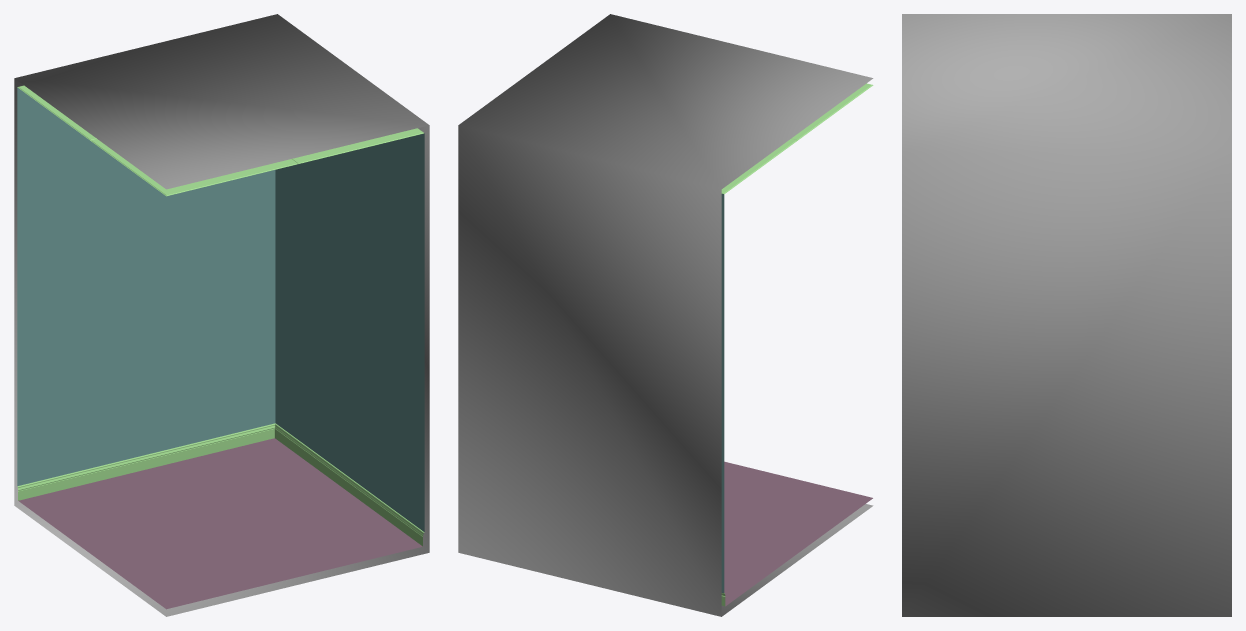
Rendered from Room_2x2_corner_in_geo.fbx.
3 views of the same model, side by side, from view 1: azimuth 30°, elevation 25°; view 2: azimuth 150°, elevation 25°; view 3: azimuth 270°, elevation 25° (orthographic). The views are drawn at different scales.
Parts seen in each view (by area): view 1: Room_2x2_corner_in_geo; view 2: Room_2x2_corner_in_geo; view 3: Room_2x2_corner_in_geo.
Boxes of the visible parts, x1=… form: Room_2x2_corner_in_geo: x1=14, y1=14, x2=429, y2=616; Room_2x2_corner_in_geo: x1=458, y1=14, x2=873, y2=616; Room_2x2_corner_in_geo: x1=902, y1=14, x2=1231, y2=616.
Bounding box in the file's own units: 2 × 3.1 × 2.
